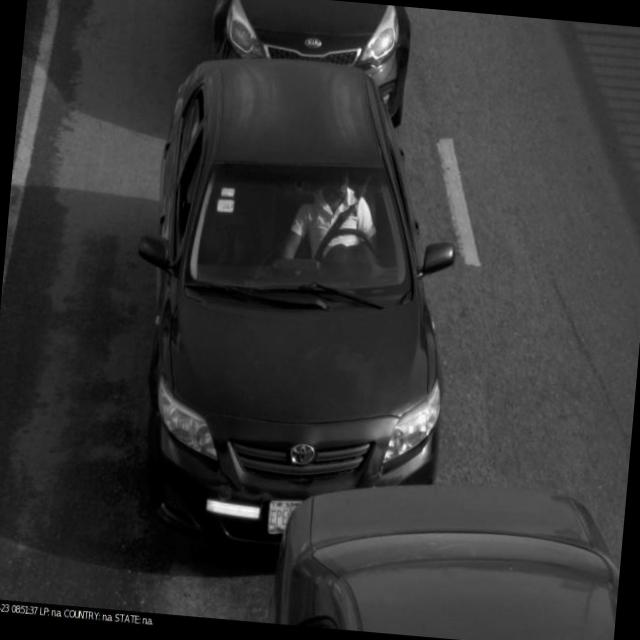person_with_seatbelt: (279, 172, 400, 279)
